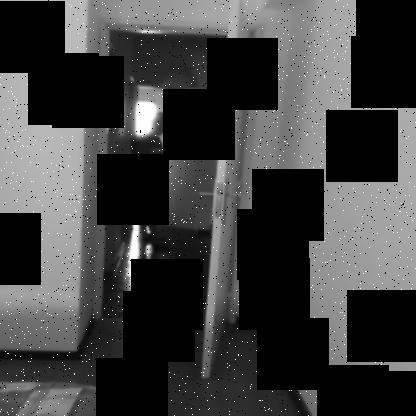Porte: (90, 0, 267, 381)
